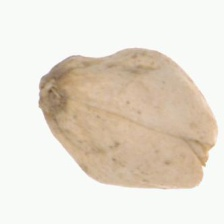L1: (184, 124, 218, 187), (38, 63, 66, 120)
L2: (37, 47, 218, 188)
